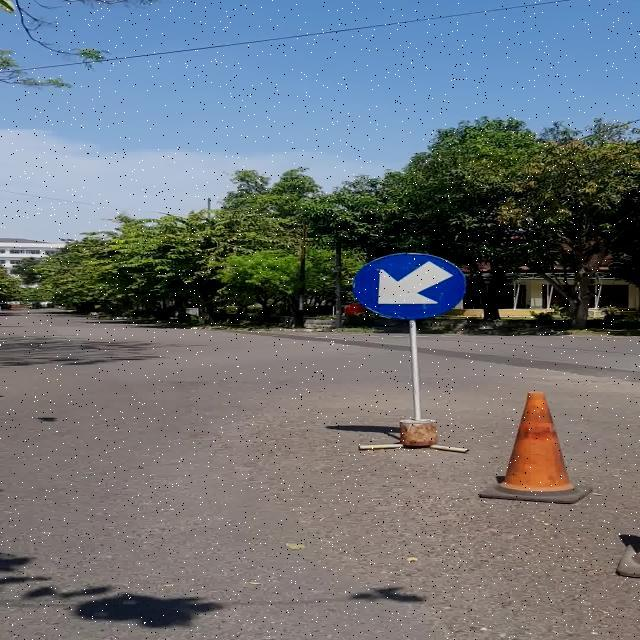Lajur Kiri: (352, 252, 466, 318)
